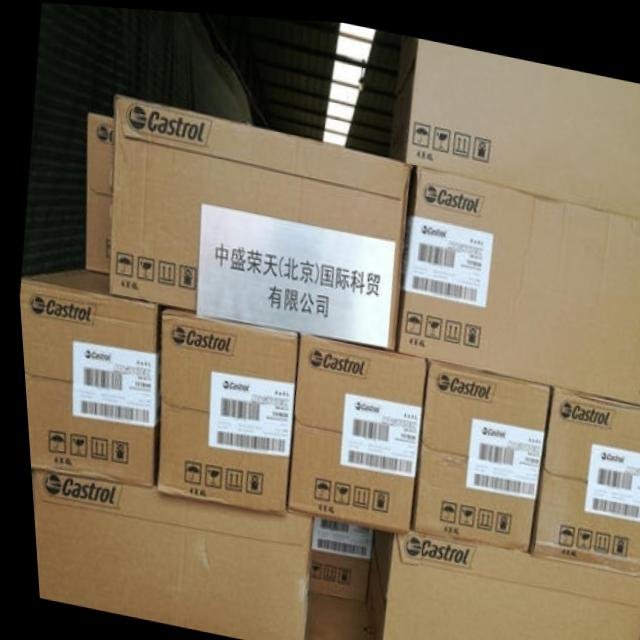box: (104, 92, 411, 345), (392, 160, 640, 399), (26, 469, 305, 640), (387, 31, 640, 209), (356, 525, 640, 640), (16, 270, 158, 485), (148, 307, 295, 511), (281, 330, 422, 529), (406, 354, 546, 547), (522, 381, 640, 564), (301, 514, 367, 595), (81, 112, 111, 273), (298, 592, 360, 640)
